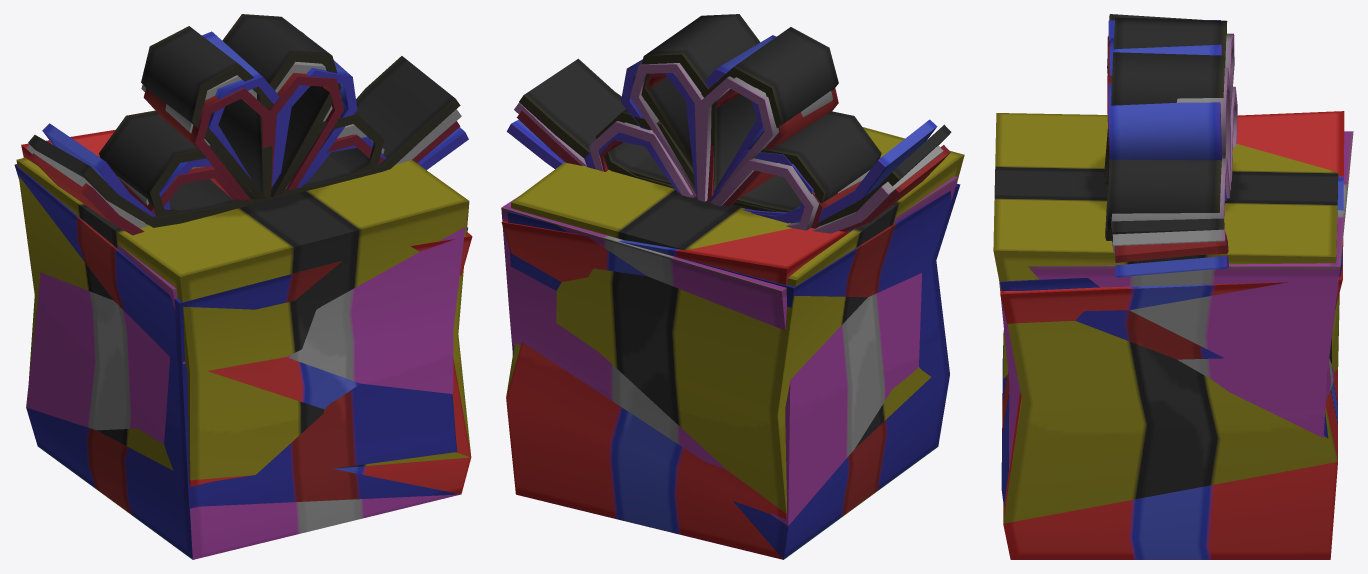
File: xmas props.fbx
The picture shows the model from 3 angles, left to right: view 1: azimuth 30°, elevation 25°; view 2: azimuth 150°, elevation 25°; view 3: azimuth 270°, elevation 25°; orthographic projection. The views are drawn at different scales.
Parts seen in each view (by area): view 1: gift3, gift2, gift4, gift1; view 2: gift3, gift1, gift4, gift2; view 3: gift3, gift1, gift4, gift2.
Boxes of the visible parts, x1,y1,x2,y2 form: gift3: (16,14,471,480); gift2: (14,72,467,559); gift4: (26,61,465,559); gift1: (21,31,472,494); gift3: (506,14,964,513); gift1: (501,35,937,559); gift4: (501,63,957,525); gift2: (507,73,960,559); gift3: (993,14,1339,523); gift1: (1000,20,1344,559); gift4: (999,33,1353,469); gift2: (1000,37,1342,506).
Bounding box in the file's own units: 2.91 × 2.25 × 3.11.
